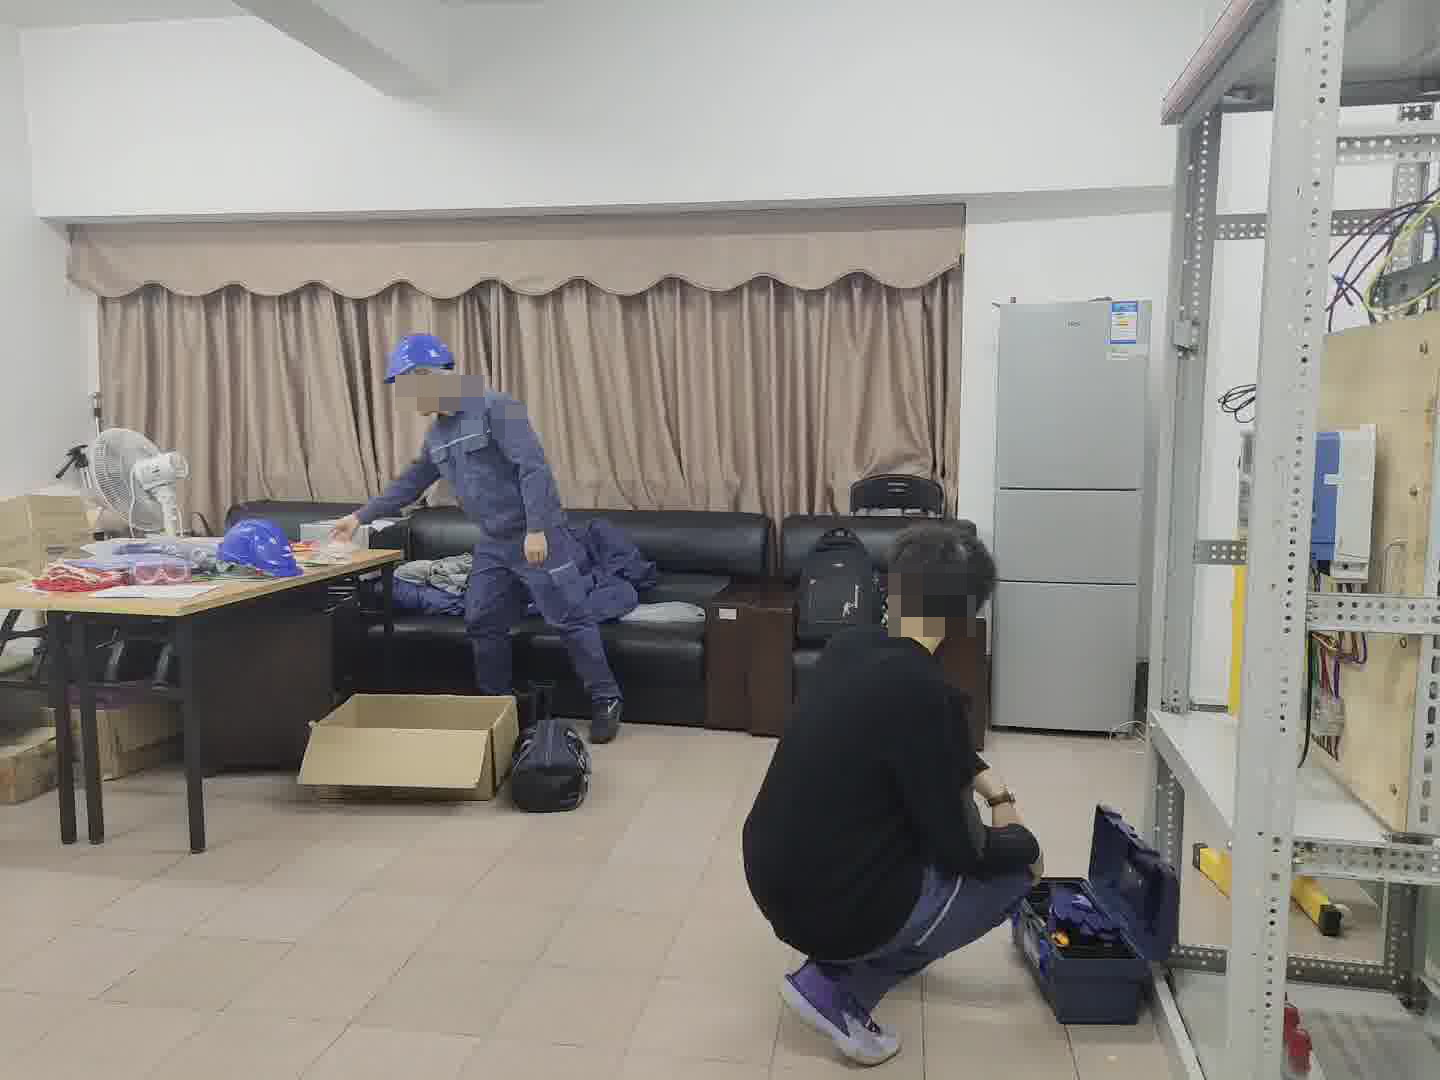downsuit: (812, 855, 1032, 1021), (470, 529, 621, 717)
halt: (382, 332, 460, 424)
hand: (327, 514, 357, 548), (522, 529, 547, 566)
inear: (410, 372, 451, 415)
noear: (883, 563, 909, 623)
person: (743, 508, 1166, 1073), (375, 325, 646, 808)
sleeve: (501, 404, 526, 437)
unhalt: (891, 519, 997, 636)
upcloth: (742, 618, 1034, 951)
upsuit: (427, 389, 557, 535)
